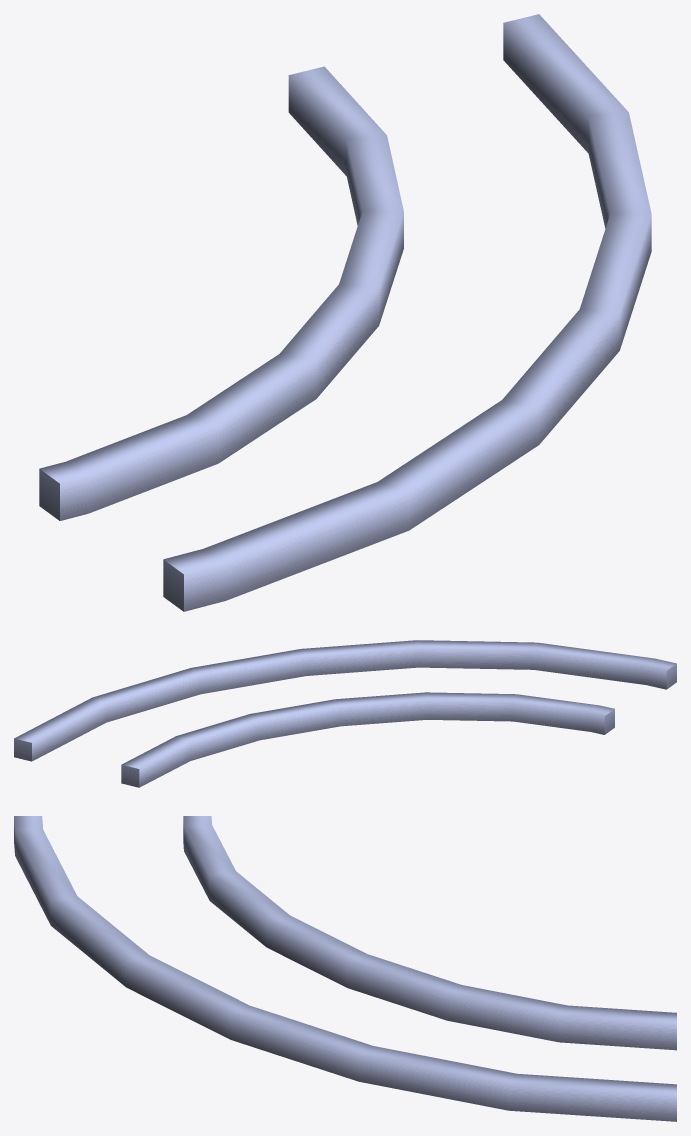
File: railroad-rail-corner-small.glb
3 renders of one model, top to bottom at view 1: azimuth 30°, elevation 25°; view 2: azimuth 150°, elevation 25°; view 3: azimuth 270°, elevation 25°, orthographic. The views are drawn at different scales.
Visible parts, largest first — view 1: railroad-rail-corner-small; view 2: railroad-rail-corner-small; view 3: railroad-rail-corner-small.
Part boxes in pixels (box(x1,y1,x2,y2)): railroad-rail-corner-small: box(39, 14, 651, 611); railroad-rail-corner-small: box(14, 640, 676, 787); railroad-rail-corner-small: box(14, 816, 676, 1121).
Bounding box in the file's own units: 2.35 × 0.1001 × 2.35.
1 material, 1 textured.
